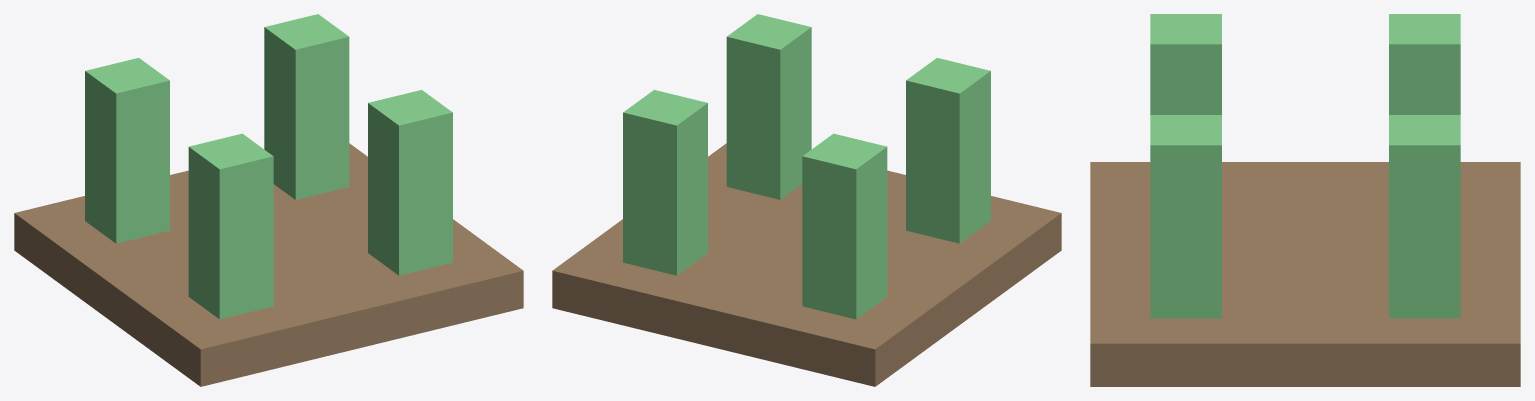
File: Prop_DS_Crop_Clover.glb
3 renders of one model, left to right at view 1: azimuth 30°, elevation 25°; view 2: azimuth 150°, elevation 25°; view 3: azimuth 270°, elevation 25°, orthographic. The views are drawn at different scales.
Parts seen in each view (by area): view 1: Prop_DS_Crop_Clover; view 2: Prop_DS_Crop_Clover; view 3: Prop_DS_Crop_Clover.
Part boxes in pixels (left/top/right/bottom): Prop_DS_Crop_Clover: left=14, top=14, right=523, bottom=386; Prop_DS_Crop_Clover: left=552, top=14, right=1061, bottom=386; Prop_DS_Crop_Clover: left=1090, top=14, right=1520, bottom=386.
Bounding box in the file's own units: 0.9 × 0.5 × 0.9.
